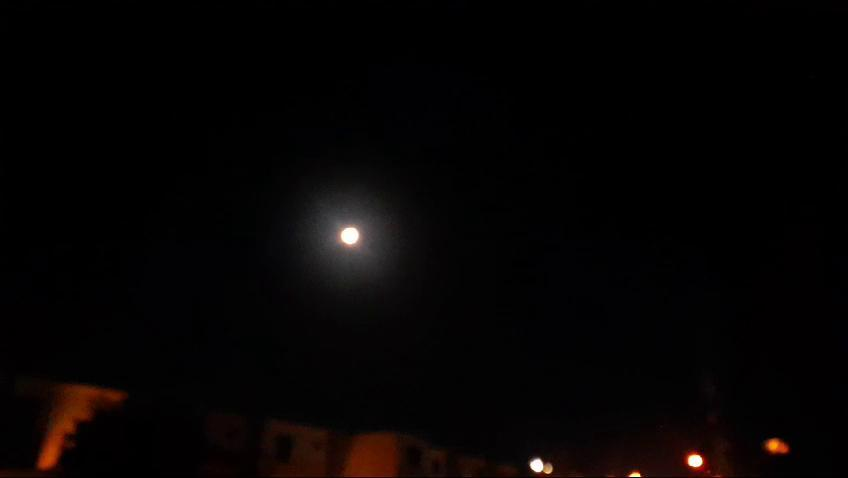moon: (328, 226, 358, 255)
